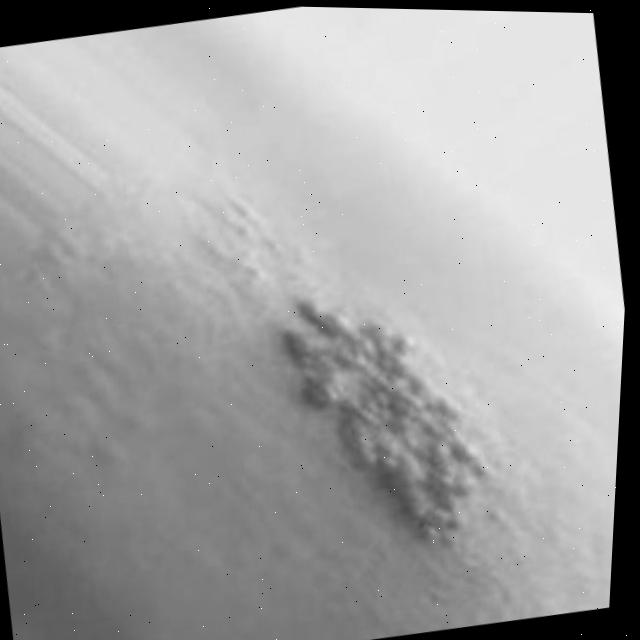Shingles: (256, 262, 518, 562)
